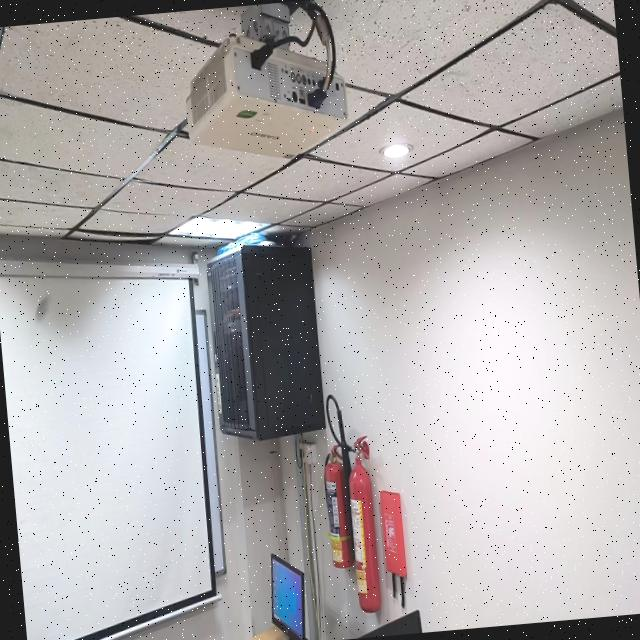Fire Extinguisher: (349, 436, 381, 612), (324, 452, 352, 568)
Light: (168, 216, 261, 239), (380, 142, 412, 158)
Monitor: (271, 553, 307, 640), (358, 609, 422, 638)
Projector: (186, 31, 348, 157)
